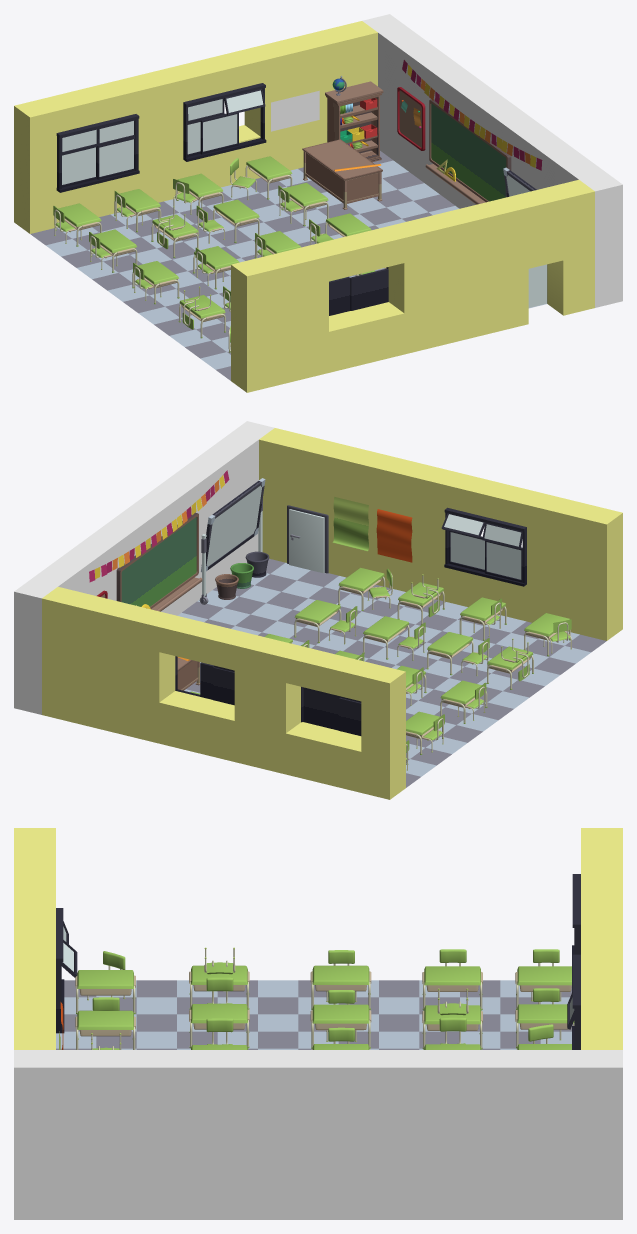
File: Escuela.fbx
3 renders of one model, top to bottom at view 1: azimuth 30°, elevation 25°; view 2: azimuth 150°, elevation 25°; view 3: azimuth 270°, elevation 25°, orthographic. The views are drawn at different scales.
Parts seen in each view (by area): view 1: pared, Suelo.001, pizarron, escritorio., librero, cartel, marco_ventana, ventana_inf02, anotador, ventana_inf01, puerta, ventana_sup02 (+13 smaller); view 2: pared, Suelo.001, pizarron, pizarron_02, puerta, afiche_01, afiche_02, ventana_inf02, ventana_inf01, escritorio., tapa_banco.019, tapa_banco.004 (+6 smaller); view 3: pared, Suelo.001, tapa_banco.016, tapa_banco.017, tapa_banco.011, tapa_banco.002, tapa_banco.012, tapa_banco.001, tapa_banco.013, tapa_banco.019, marco_ventana, tapa_banco.018 (+5 smaller).
Boxes of the visible parts, x1,y1,x2,y2 form: pared: (14,14,622,392); Suelo.001: (30,151,546,380); pizarron: (425,99,511,204); escritorio.: (302,139,382,209); librero: (325,81,383,162); cartel: (271,90,319,131); marco_ventana: (56,114,139,192); ventana_inf02: (97,137,135,179); anotador: (397,87,425,150); ventana_inf01: (62,146,97,187); puerta: (528,264,546,307); ventana_sup02: (98,119,135,145); pared: (14,421,622,799); Suelo.001: (177,558,606,787); pizarron: (116,512,202,611); pizarron_02: (199,478,265,604); puerta: (289,509,324,573); afiche_01: (332,497,368,551); afiche_02: (376,509,412,562); ventana_inf02: (303,689,339,730); ventana_inf01: (339,697,361,735); escritorio.: (177,657,200,690); tapa_banco.019: (427,632,472,655); tapa_banco.004: (338,567,384,591); pared: (14,828,622,1219); Suelo.001: (56,980,572,1049); tapa_banco.016: (312,1004,369,1023); tapa_banco.017: (312,965,369,984); tapa_banco.011: (424,966,480,985); tapa_banco.002: (77,1010,133,1029); tapa_banco.012: (517,966,571,985); tapa_banco.001: (77,970,133,988); tapa_banco.013: (517,1004,574,1023); tapa_banco.019: (191,1004,247,1023); marco_ventana: (572,874,580,992); tapa_banco.018: (191,965,247,984).
Bounding box in the file's own units: 27 × 8.01 × 29.
